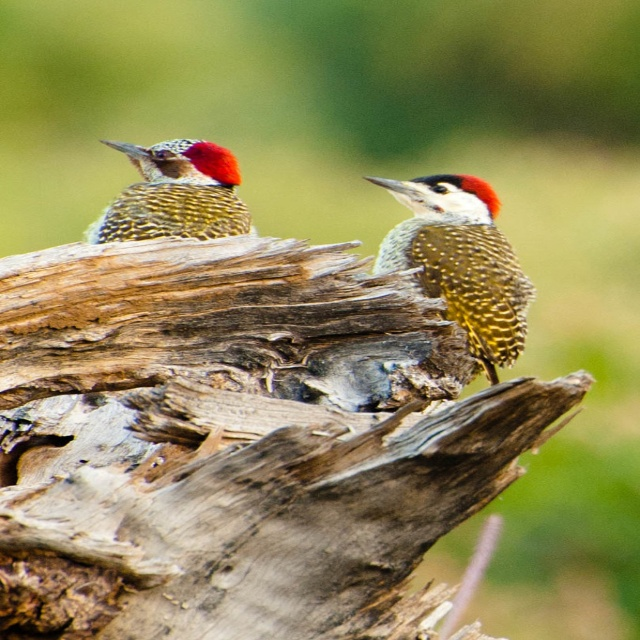Woodpecker: (362, 173, 537, 386), (82, 138, 253, 245)
